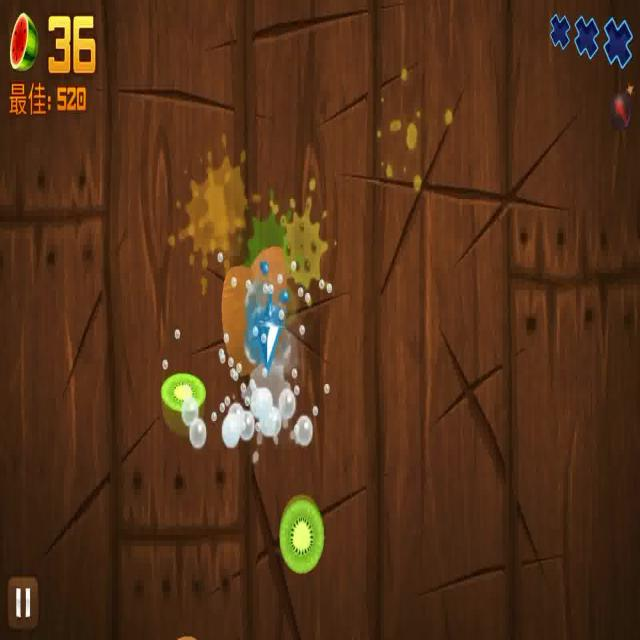fruit: (220, 255, 267, 386), (277, 492, 326, 578), (158, 369, 210, 443)
